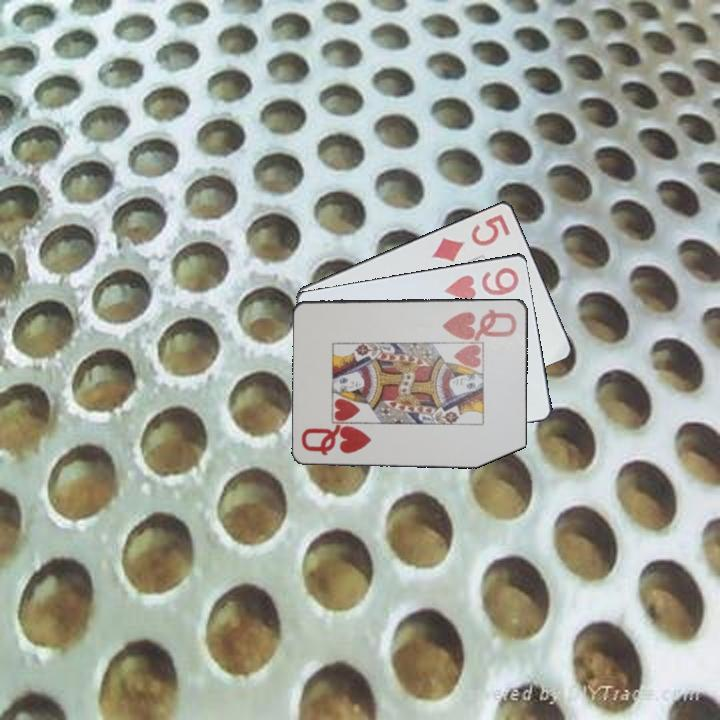5d: (428, 210, 513, 266)
9h: (439, 263, 522, 302)
Qh: (439, 305, 520, 341), (298, 424, 374, 458)
